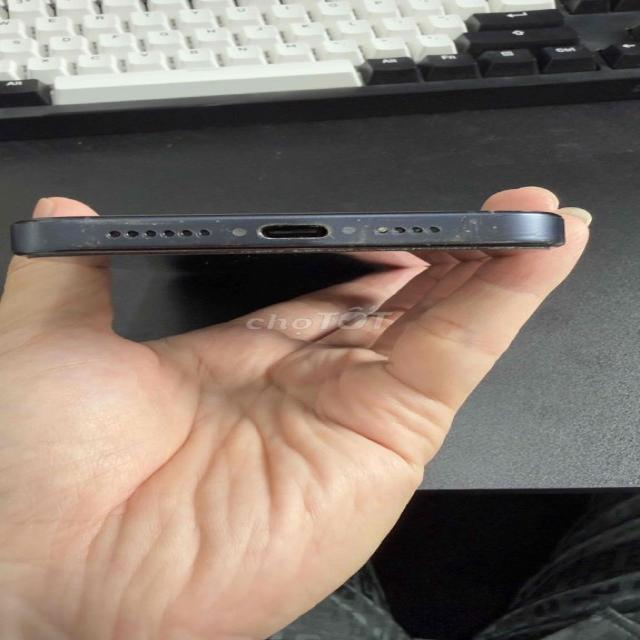gen_15: (0, 191, 584, 278)
